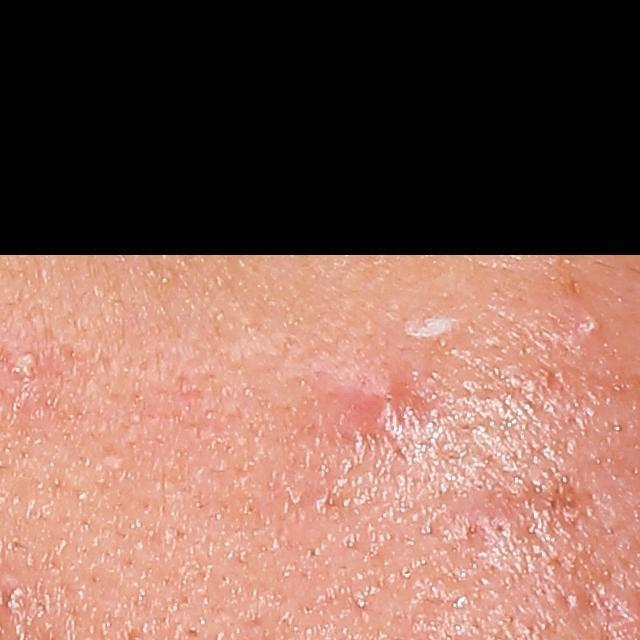pustule: (12, 347, 43, 377)
